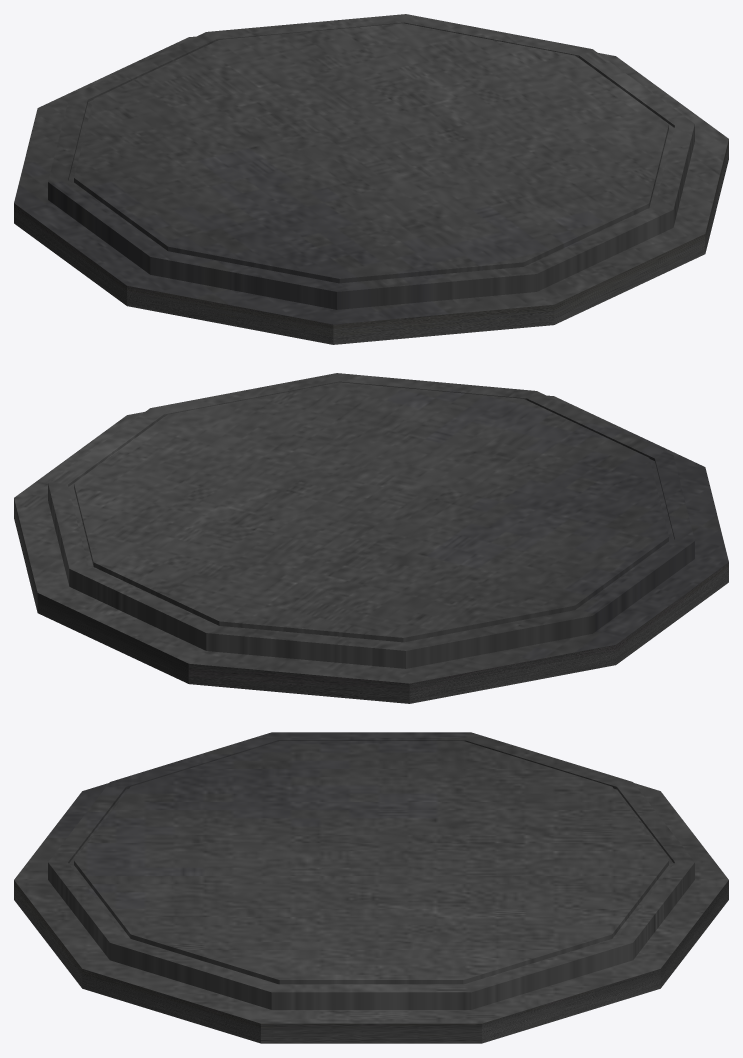
The model's file is PLATFORM.fbx.
3 views of the same model, one above another, from view 1: azimuth 30°, elevation 25°; view 2: azimuth 150°, elevation 25°; view 3: azimuth 270°, elevation 25° (orthographic). The views are drawn at different scales.
Visible parts, largest first — view 1: Cylinder.109; view 2: Cylinder.109; view 3: Cylinder.109.
Boxes of the visible parts, left/top/right/bottom form: Cylinder.109: left=14, top=14, right=728, bottom=344; Cylinder.109: left=14, top=373, right=728, bottom=703; Cylinder.109: left=14, top=732, right=728, bottom=1043.
Size of the model in its own units: 4553 by 291 by 4787.
